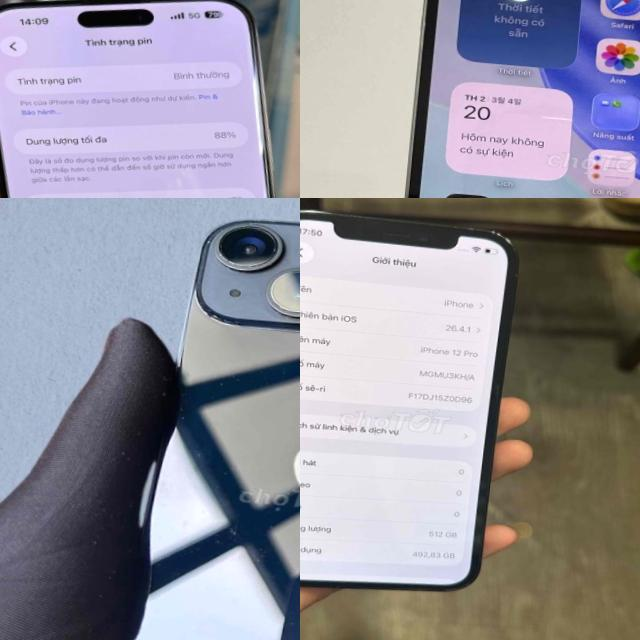scratch: (156, 353, 237, 438), (208, 222, 292, 276)
